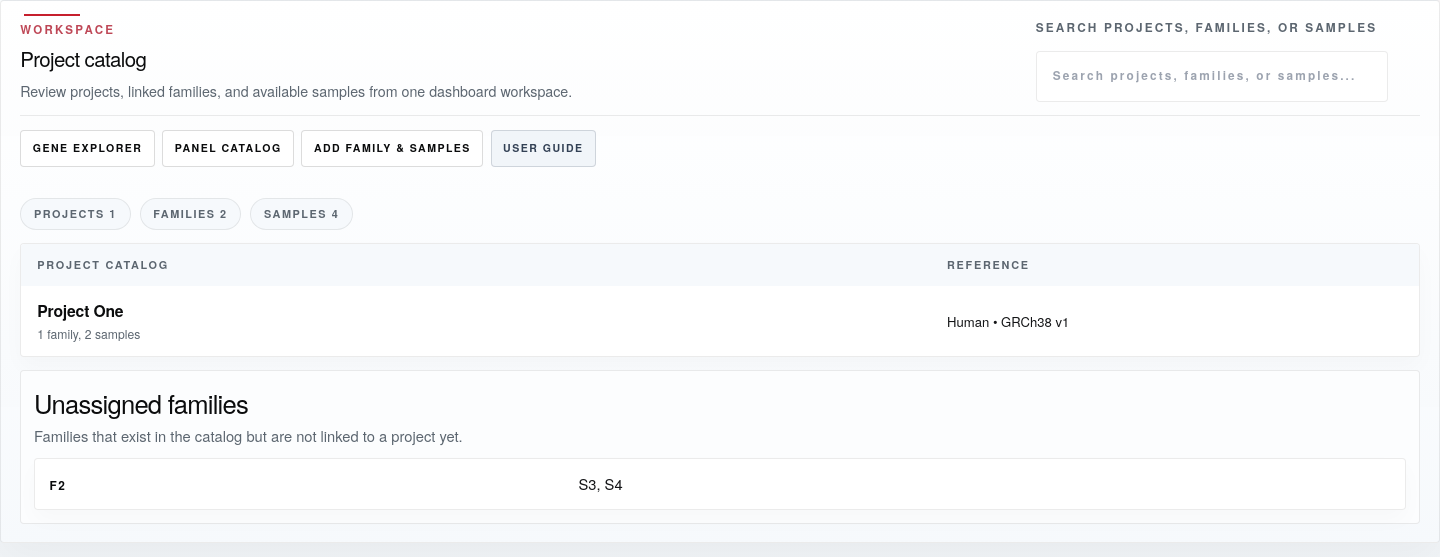
Scenario: Dashboard admin section › searches the dashboard catalog by sample id
The image size is (1440, 557).
Expected: the button "Project One 1 family, 2 samples" is shown, [37,299,915,343]
Type "S3" into the field labelled "Search projects, families, or samples". click: (1212, 76)
box: [1036,51,1388,102]
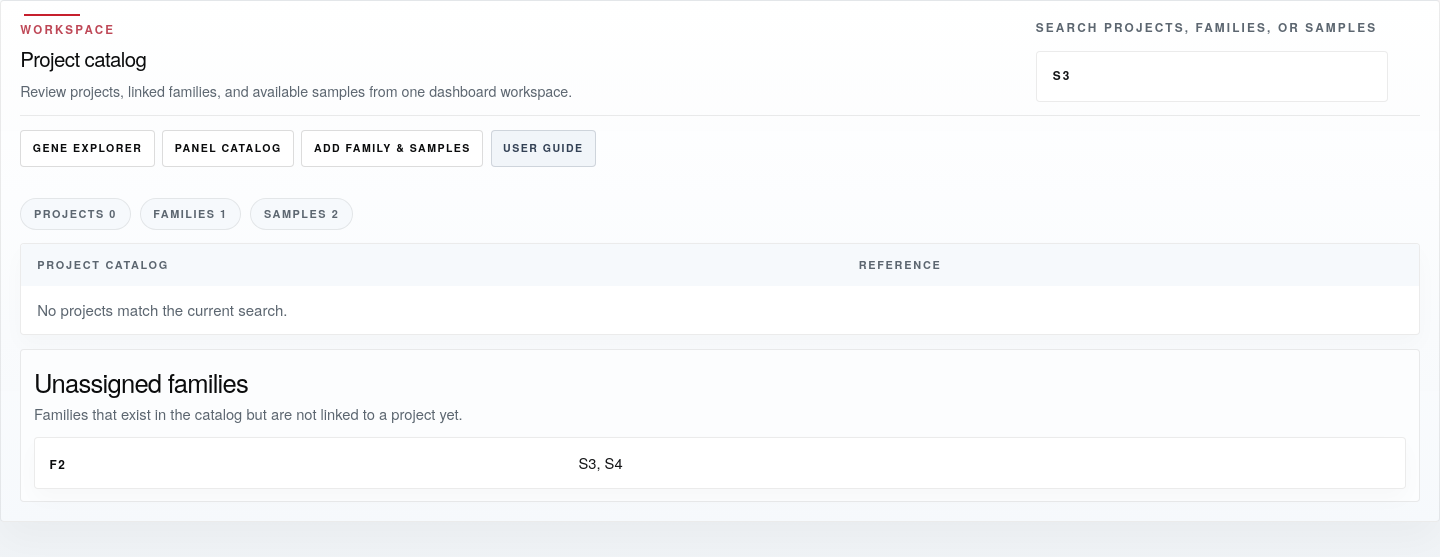
Now the text "Projects 0" is shown, box [20,198,131,230]
Now the text "Families 1" is shown, box [140,198,242,230]
Now the text "Samples 2" is shown, box [250,198,353,230]
